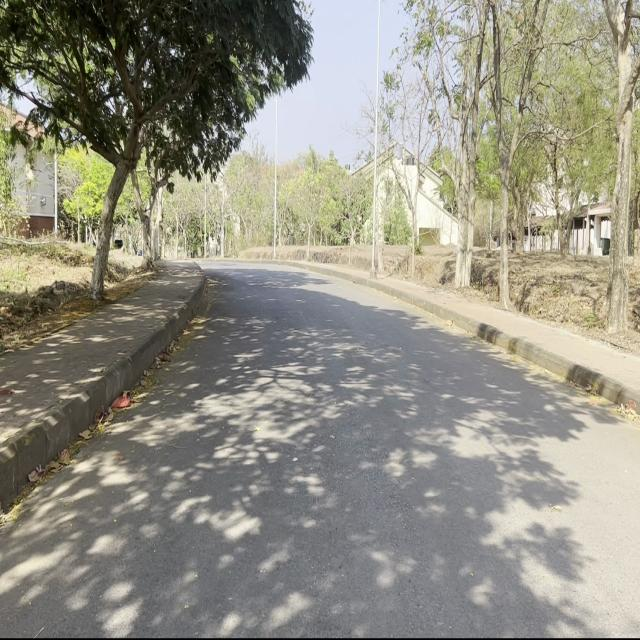Road: (3, 259, 637, 633)
